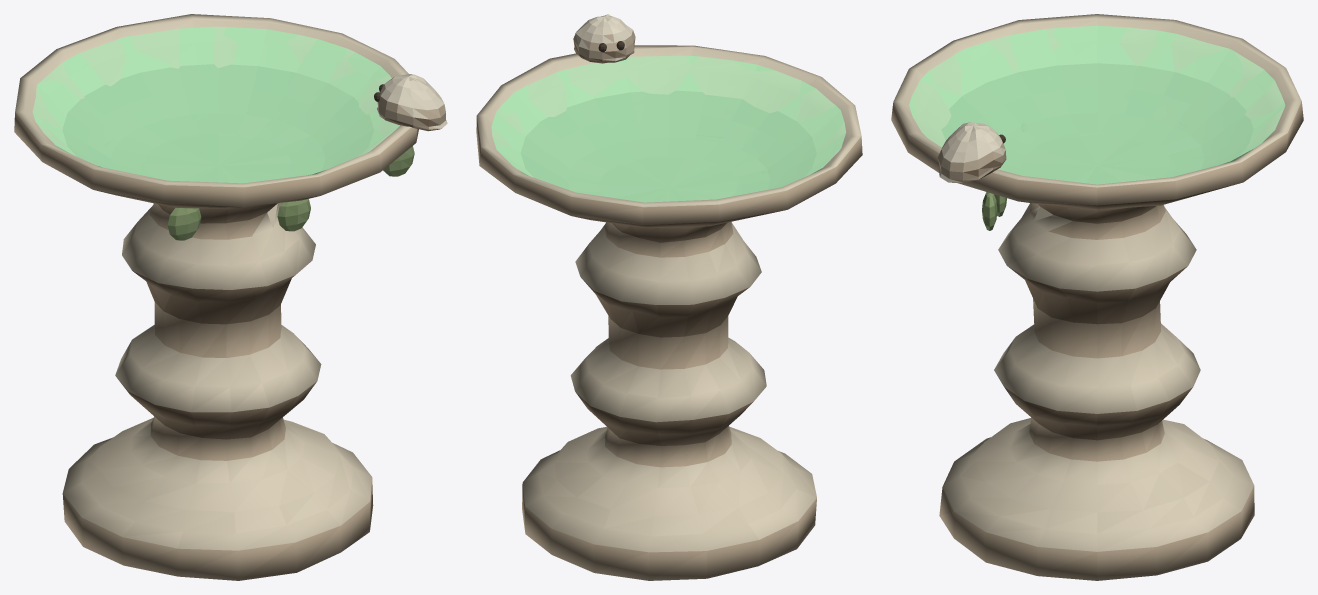
Rendered from Slime_Birdbath.glb.
The picture shows the model from 3 angles, left to right: view 1: azimuth 30°, elevation 25°; view 2: azimuth 150°, elevation 25°; view 3: azimuth 270°, elevation 25°; orthographic projection. The views are drawn at different scales.
Parts seen in each view (by area): view 1: Birdbath_Body, Birdbath_Pool, Birdbath_BabySlime, Birdbath_Moss_1, Birdbath_Moss_2; view 2: Birdbath_Body, Birdbath_Pool, Birdbath_BabySlime; view 3: Birdbath_Body, Birdbath_Pool, Birdbath_BabySlime.
Boxes of the visible parts, x1,y1,x2,y2 form: Birdbath_Body: (14, 14, 418, 580); Birdbath_Pool: (32, 26, 399, 183); Birdbath_BabySlime: (377, 74, 447, 131); Birdbath_Moss_1: (167, 208, 201, 240); Birdbath_Moss_2: (277, 199, 310, 231); Birdbath_Body: (476, 45, 862, 580); Birdbath_Pool: (491, 55, 846, 202); Birdbath_BabySlime: (573, 14, 635, 63); Birdbath_Body: (891, 14, 1303, 580); Birdbath_Pool: (909, 25, 1285, 184); Birdbath_BabySlime: (937, 122, 1006, 182).
Size of the model in its own units: 0.7706 by 0.9419 by 0.7766.
